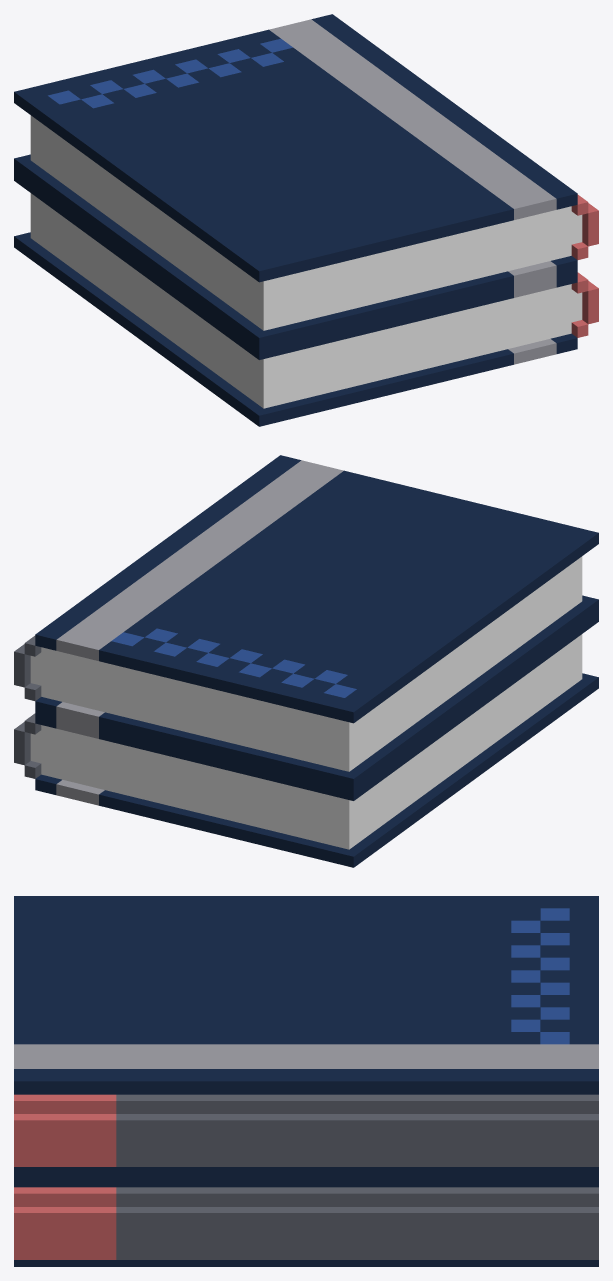
File: Book04.fbx
3 renders of one model, top to bottom at view 1: azimuth 30°, elevation 25°; view 2: azimuth 150°, elevation 25°; view 3: azimuth 270°, elevation 25°, orthographic. The views are drawn at different scales.
Visible parts, largest first — view 1: Book04; view 2: Book04; view 3: Book04.
Boxes of the visible parts, bbox=[...] form: Book04: bbox=[14, 14, 598, 426]; Book04: bbox=[14, 455, 598, 867]; Book04: bbox=[14, 896, 598, 1266].
Bounding box in the file's own units: 200 × 87.5 × 250.
